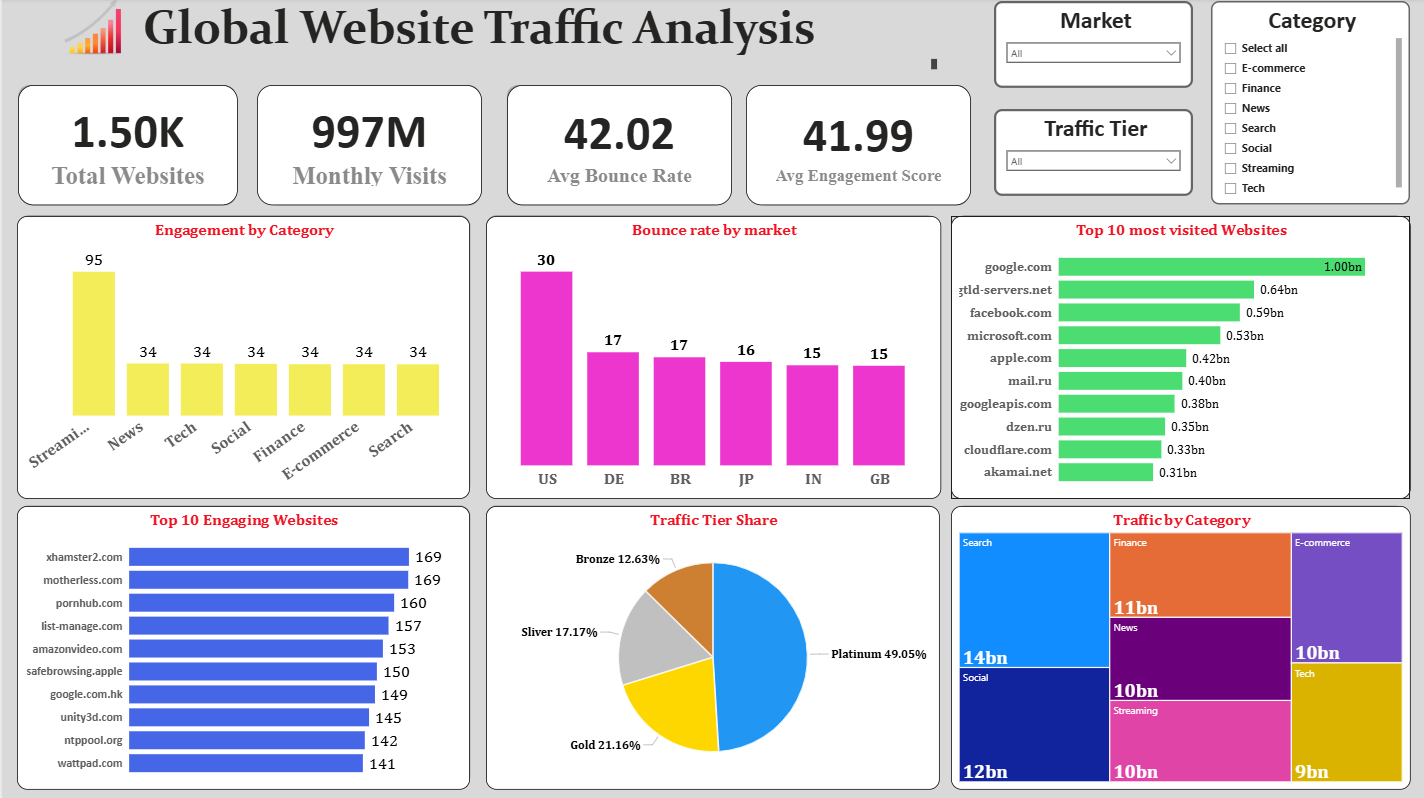

The page's visual inventory and layout, read from the dashboard file:
{"tool":"powerbi","page":{"name":"Page 3","canvas":[1920,1080],"ordinal":0},"visuals":[{"type":"pieChart","title":"Traffic Tier Share ","fields":{"Category":["web traffic_2026.traffic_tier"],"Y":["Sum(web traffic_2026.monthly_visits)"]},"box":[652.2,684.3,611.3,382.2],"z":0},{"type":"columnChart","title":"Bounce rate by market","fields":{"Y":["Avg(web traffic_2026.bounce_rate_pct)"],"Category":["web traffic_2026.primary_market"]},"box":[652.2,293.3,612.8,380.8],"z":1000},{"type":"clusteredBarChart","title":"Top 10 most visited Websites","fields":{"Category":["web traffic_2026.domain"],"Y":["Sum(web traffic_2026.monthly_visits)"]},"box":[1278.1,293.3,618.6,380.8],"z":2000},{"type":"columnChart","title":"Engagement by Category","fields":{"Category":["web traffic_2026.category"],"Y":["Avg(web traffic_2026.enagement_score)"]},"box":[20.4,293.3,609.8,380.8],"z":3000},{"type":"barChart","title":"Top 10 Engaging Websites","fields":{"Category":["web traffic_2026.domain"],"Y":["Avg(web traffic_2026.enagement_score)"]},"box":[20.4,684.3,609.8,382.2],"z":4000},{"type":"treemap","title":"Traffic by Category","fields":{"Group":["web traffic_2026.category"],"Values":["Sum(web traffic_2026.monthly_visits)"]},"box":[1278.1,684.3,618.6,382.2],"z":5000},{"type":"cardVisual","fields":{"Data":["web traffic_2026.Total Websites"]},"box":[21.9,116.7,296.2,161.9],"z":6000},{"type":"cardVisual","title":"Monthly Visits","fields":{"Data":["web traffic_2026.MAX Monthly Visits"]},"box":[342.9,116.7,303.5,161.9],"z":7000},{"type":"cardVisual","fields":{"Data":["web traffic_2026.Avg Bounce Rate"]},"box":[679.9,116.7,303.5,161.9],"z":8000},{"type":"cardVisual","fields":{"Data":["web traffic_2026.Avg Engagement Score"]},"box":[1002.3,116.7,303.5,161.9],"z":9000},{"type":"slicer","title":"Market","fields":{"Values":["web traffic_2026.primary_market"]},"box":[1336.4,4.4,268.4,116.7],"z":10000},{"type":"slicer","title":"Category","fields":{"Values":["web traffic_2026.category"]},"box":[1628.2,4.4,268.4,274.3],"z":11000},{"type":"textbox","title":"Global Website Traffic Analysis","box":[20.4,0,1244.5,100.7],"z":12000},{"type":"image","box":[0,0,248,75.9],"z":13000},{"type":"slicer","title":"Traffic Tier","fields":{"Values":["web traffic_2026.traffic_tier"]},"box":[1336.4,148.8,268.4,116.7],"z":13001}]}

Visuals, with their boxes in screenshot pixels (x1, y1, x2, y2), scaled from the page's 1920x1080 canvas onto the 1424x798 screenshot:
"Traffic Tier Share " pieChart: box=[484, 506, 937, 788]
"Bounce rate by market" columnChart: box=[484, 217, 938, 498]
"Top 10 most visited Websites" clusteredBarChart: box=[948, 217, 1407, 498]
"Engagement by Category" columnChart: box=[15, 217, 467, 498]
"Top 10 Engaging Websites" barChart: box=[15, 506, 467, 788]
"Traffic by Category" treemap: box=[948, 506, 1407, 788]
cardVisual - web traffic_2026.Total Websites: box=[16, 86, 236, 206]
"Monthly Visits" cardVisual: box=[254, 86, 479, 206]
cardVisual - web traffic_2026.Avg Bounce Rate: box=[504, 86, 729, 206]
cardVisual - web traffic_2026.Avg Engagement Score: box=[743, 86, 968, 206]
"Market" slicer: box=[991, 3, 1190, 89]
"Category" slicer: box=[1208, 3, 1407, 206]
"Global Website Traffic Analysis" textbox: box=[15, 0, 938, 74]
image: box=[0, 0, 184, 56]
"Traffic Tier" slicer: box=[991, 110, 1190, 196]
